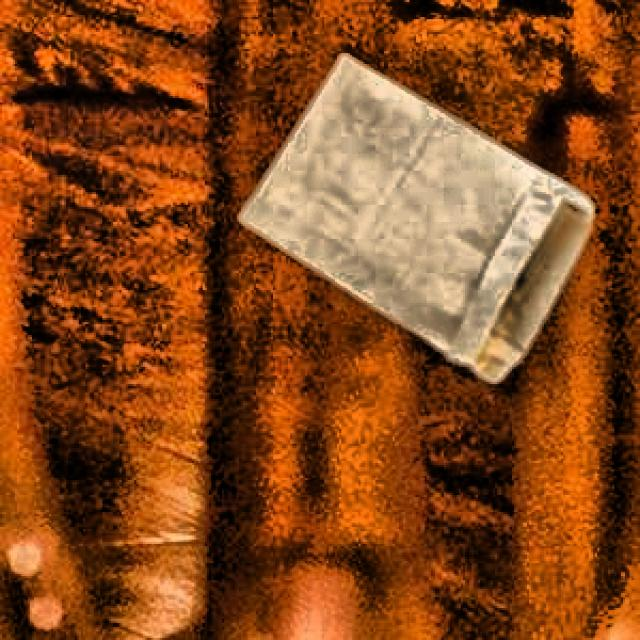Paper-bag: (226, 43, 600, 396)
